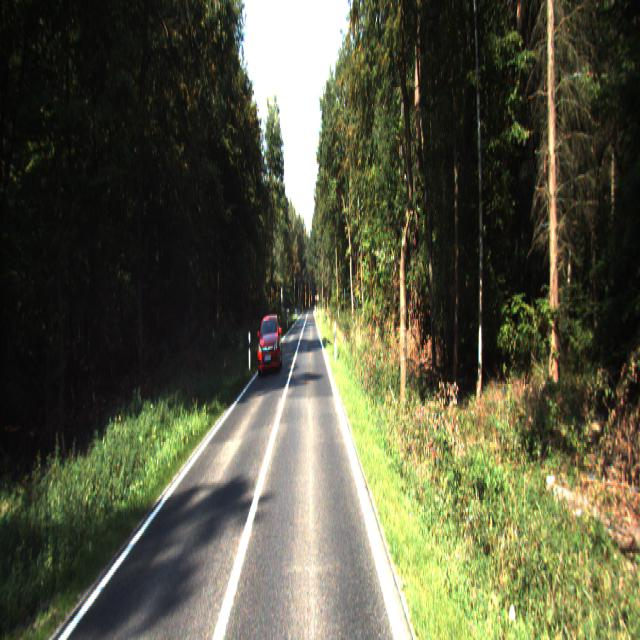Car: (256, 312, 284, 376)
